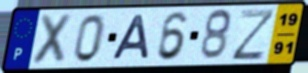0: (72, 12, 107, 65)
6: (155, 10, 191, 63)
8: (198, 8, 235, 63)
A: (109, 13, 151, 62)
X: (29, 12, 75, 66)
Z: (229, 7, 278, 62)
